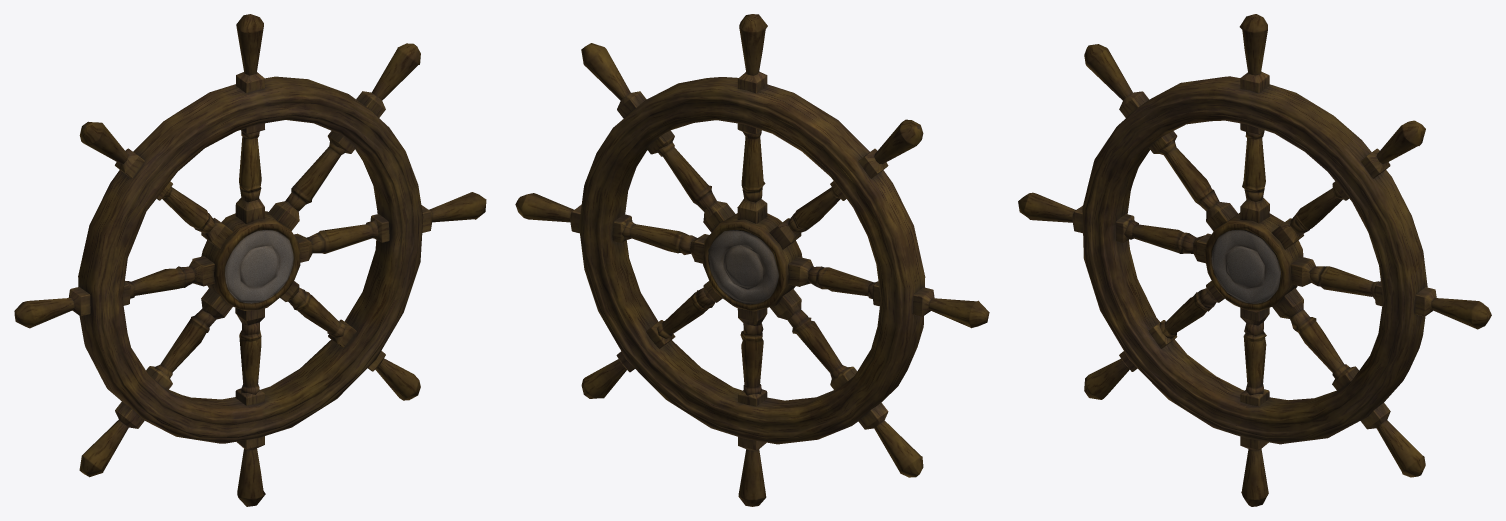
File: SM_ShipWheel.fbx
3 renders of one model, left to right at view 1: azimuth 30°, elevation 25°; view 2: azimuth 150°, elevation 25°; view 3: azimuth 330°, elevation 25°, orthographic.
Parts seen in each view (by area): view 1: SM_ShipWheel_LOD0; view 2: SM_ShipWheel_LOD0; view 3: SM_ShipWheel_LOD0.
Boxes of the visible parts, bbox=[...] form: SM_ShipWheel_LOD0: bbox=[14, 14, 486, 506]; SM_ShipWheel_LOD0: bbox=[515, 14, 989, 506]; SM_ShipWheel_LOD0: bbox=[1018, 14, 1491, 506].
Bounding box in the file's own units: 147 × 11.23 × 147.
